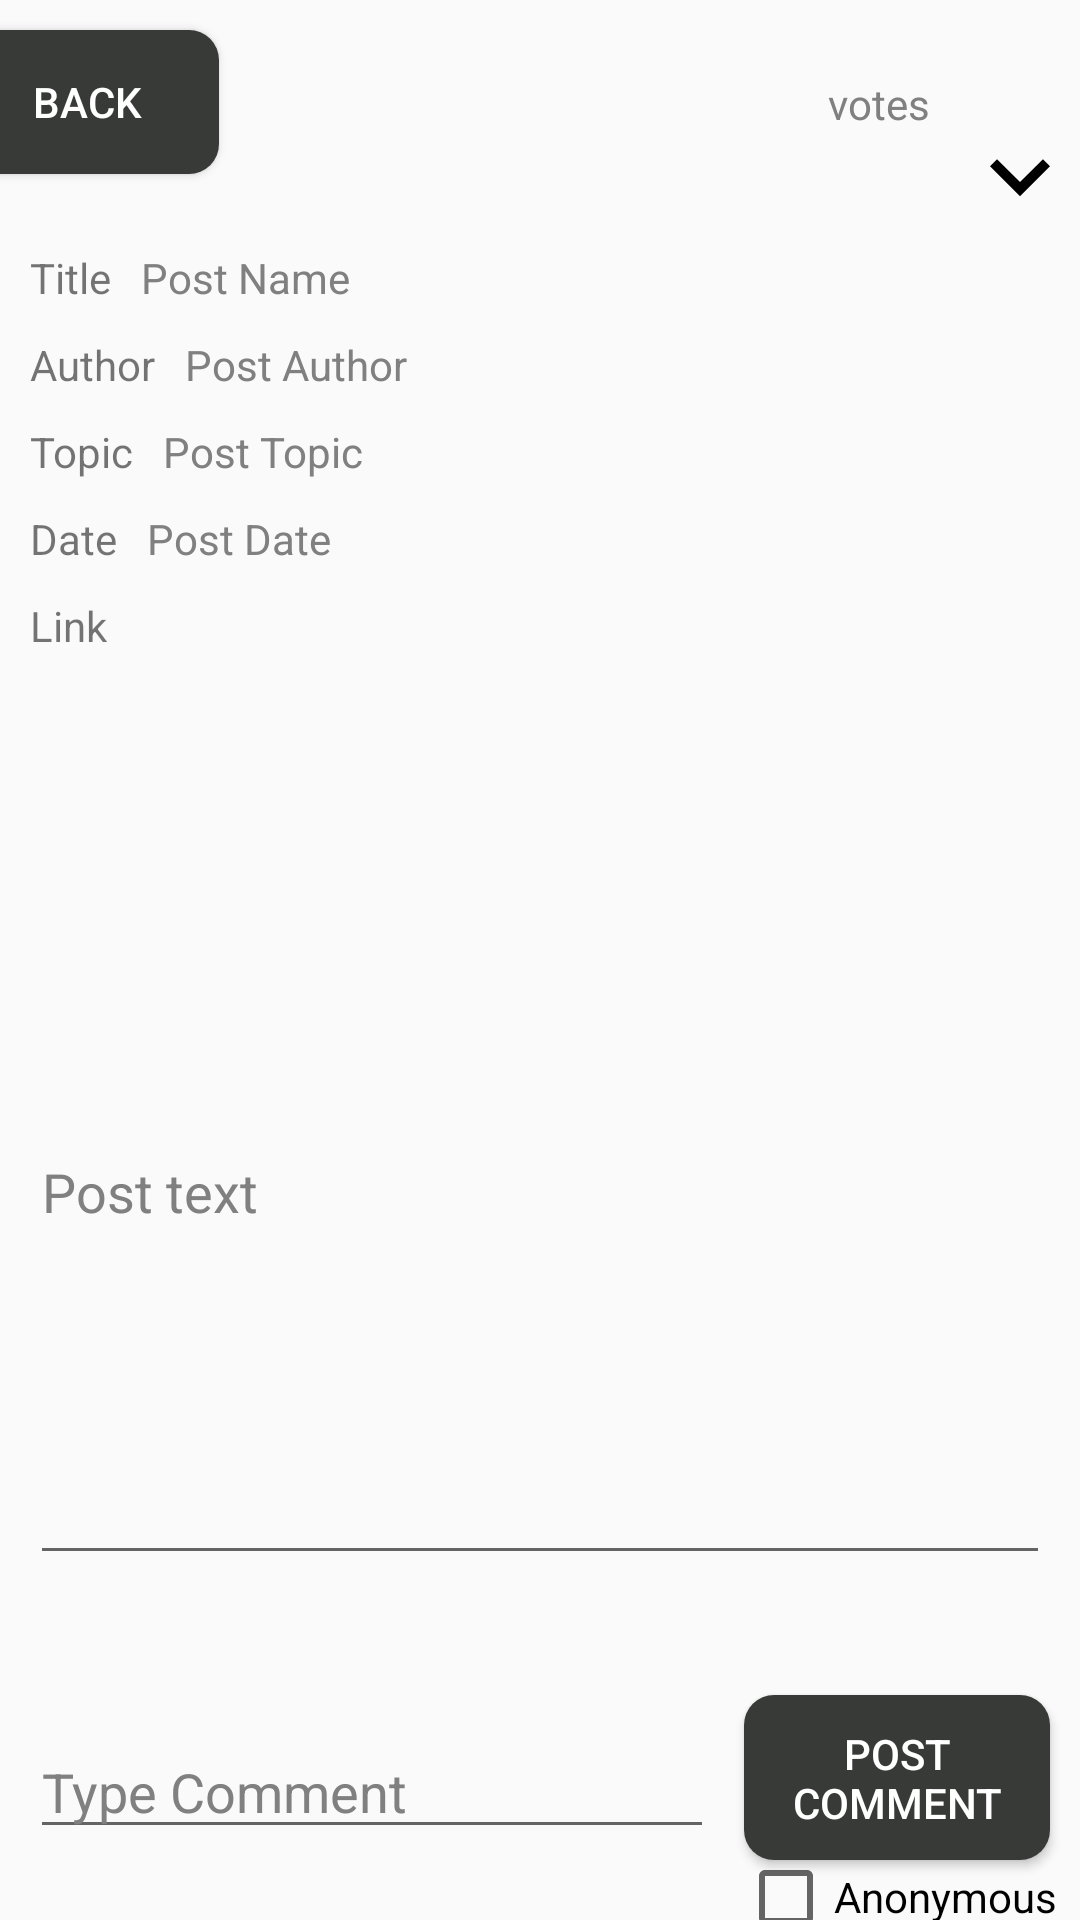

Locate icon controls on the screen. Image size 1080w x 1920h, boxes as (x1, y1, x2, y2).
keyboard arrow down: (990, 159, 1050, 196)
